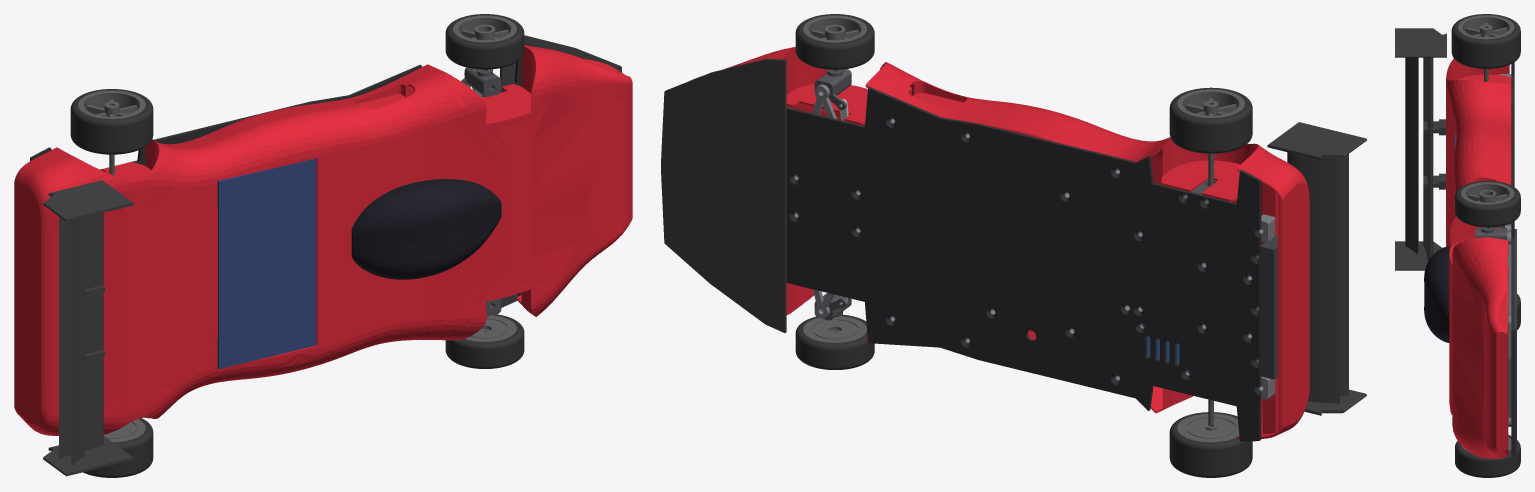
3 views of the same model, side by side, from view 1: azimuth 30°, elevation 25°; view 2: azimuth 150°, elevation 25°; view 3: azimuth 270°, elevation 25° (orthographic). The views are drawn at different scales.
Parts seen in each view (by area): view 1: body, panel, rear_wing, canopy, tyre_RL, tyre_FL, tyre_FR, floor, tyre_RR, rim_RL, rim_FL, splitter (+2 smaller); view 2: floor, splitter, body, rear_wing, tyre_RL, tyre_RR, diffuser, tyre_FL, tyre_FR, rim_RL, rim_RR, rim_FL (+3 smaller); view 3: body, rear_wing, tyre_RL, canopy, tyre_FL, floor, tyre_FR, rim_RL, rim_FL, front_module, splitter, front_upright_L.
Boxes of the visible parts, x1,y1,x2,y2 form: body: (14,45,632,435); panel: (217,158,316,368); rear_wing: (43,180,133,476); canopy: (351,179,501,279); tyre_RL: (70,89,153,154); tyre_FL: (445,14,524,69); tyre_FR: (445,314,524,368); floor: (30,42,586,295); tyre_RR: (83,418,153,477); rim_RL: (78,90,145,118); rim_FL: (453,15,516,42); splitter: (500,35,622,307); floor: (786,87,1261,441); splitter: (661,58,786,332); body: (690,47,1309,439); rear_wing: (1267,122,1366,415); tyre_RL: (1169,87,1252,153); tyre_RR: (1169,412,1252,477); diffuser: (1255,236,1277,379); tyre_FL: (795,14,874,69); tyre_FR: (795,314,874,369); rim_RL: (1177,89,1244,117); rim_RR: (1177,413,1239,442); rim_FL: (803,15,866,42); body: (1446,58,1511,458); rear_wing: (1395,28,1446,270); tyre_RL: (1451,14,1520,68); canopy: (1424,246,1450,342); tyre_FL: (1455,181,1520,227); floor: (1511,62,1514,455); tyre_FR: (1455,435,1520,477); rim_RL: (1458,15,1514,39); rim_FL: (1461,182,1514,204); front_module: (1507,232,1511,426); splitter: (1514,229,1516,460); front_upright_L: (1475,227,1506,239).
Bounding box in the file's own units: 388 × 210 × 80.
